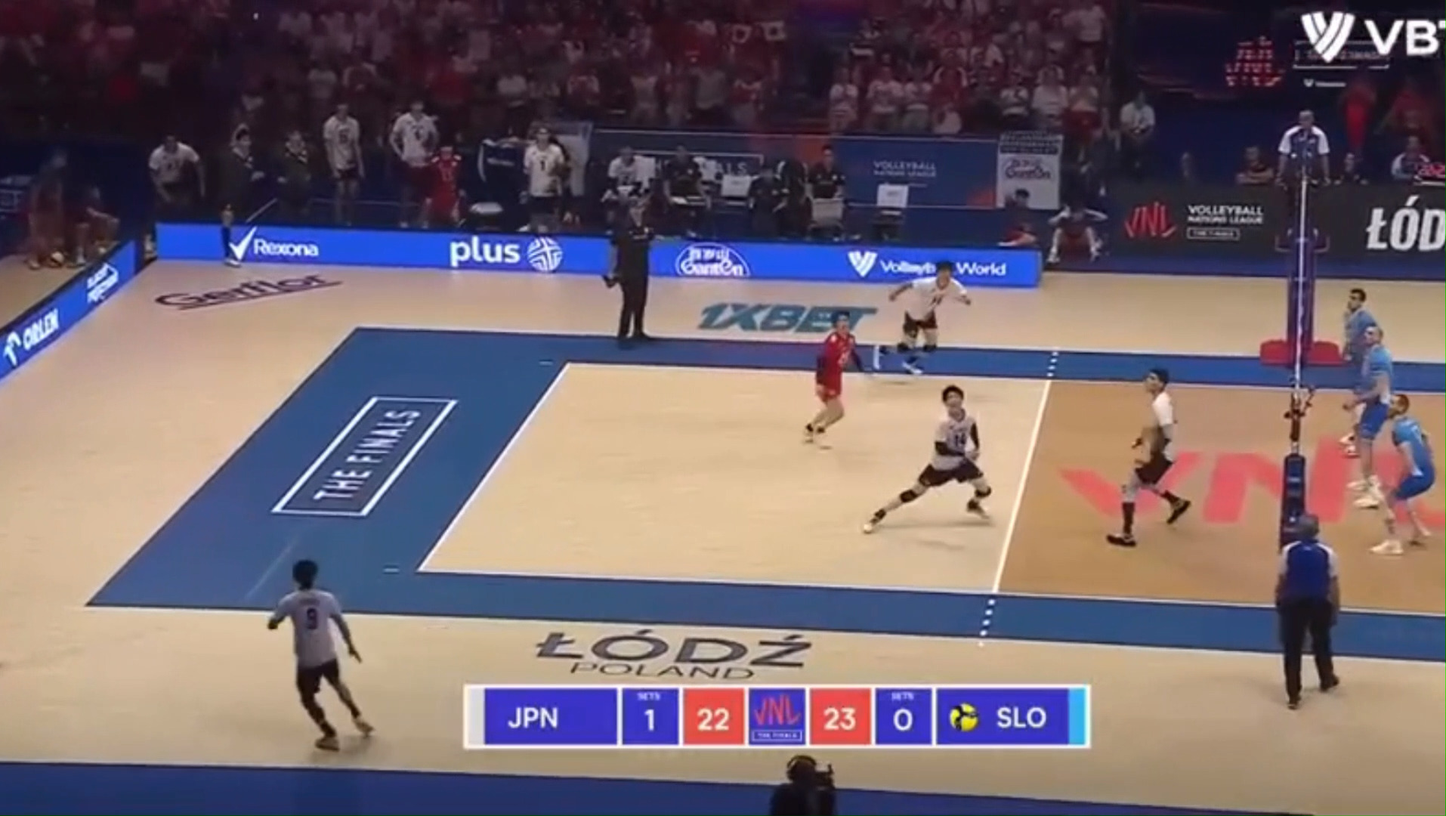player: (1371, 394, 1435, 555), (1351, 325, 1396, 508), (1342, 287, 1378, 361)
player 1: (267, 559, 373, 750), (864, 385, 992, 531), (1106, 369, 1190, 545), (874, 261, 971, 374), (805, 312, 862, 440)
referee: (1275, 514, 1339, 708), (1276, 110, 1330, 253), (605, 198, 655, 344)
